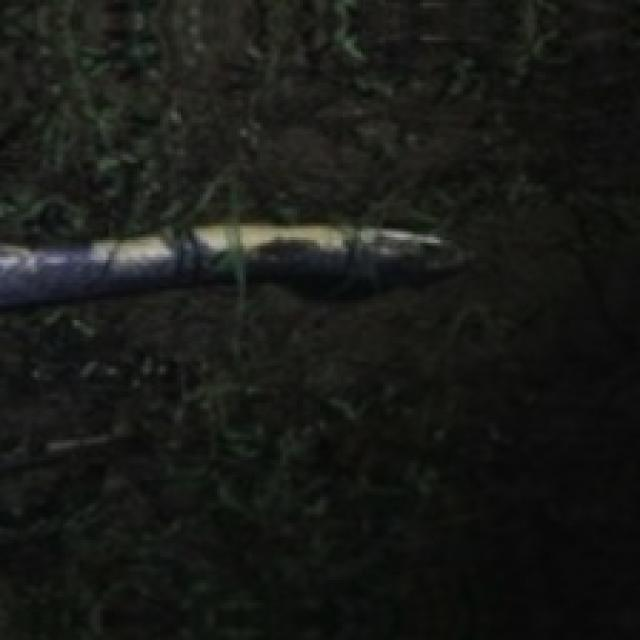king cobra: (0, 223, 466, 306)
